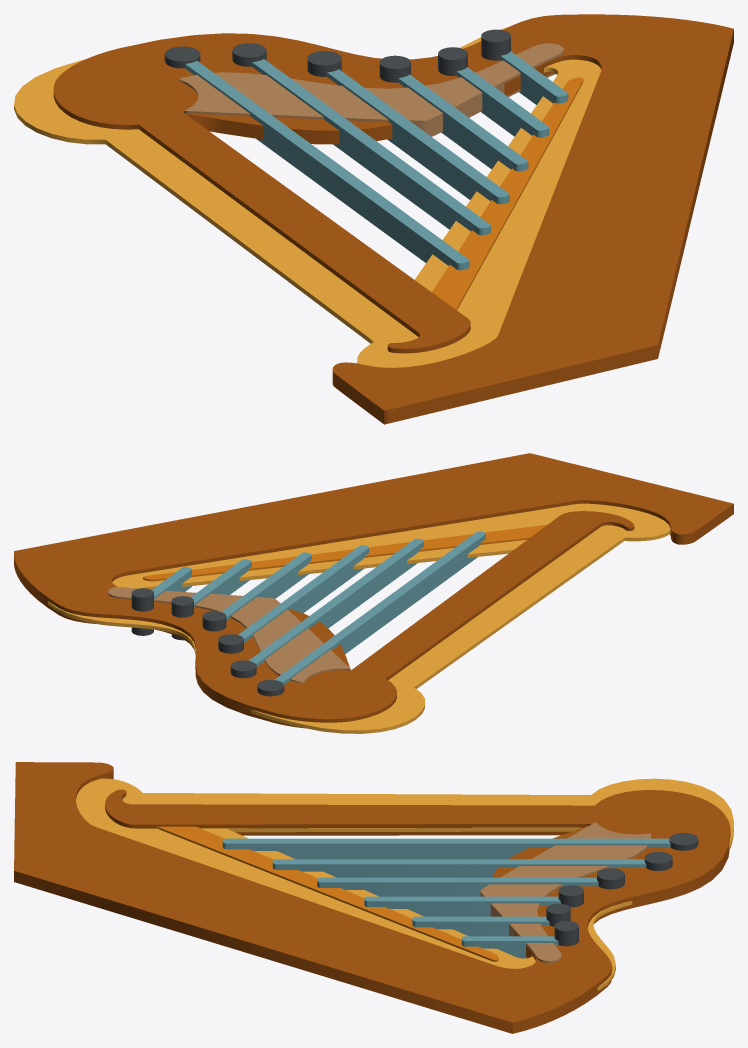
File: emoji_u1fa89.glb
3 views of the same model, one above another, from view 1: azimuth 30°, elevation 25°; view 2: azimuth 150°, elevation 25°; view 3: azimuth 270°, elevation 25° (orthographic). The views are drawn at different scales.
Visible parts, largest first — view 1: emoji_u1fa89; view 2: emoji_u1fa89; view 3: emoji_u1fa89.
Boxes of the visible parts, x1,y1,x2,y2 form: emoji_u1fa89: [14, 14, 733, 424]; emoji_u1fa89: [14, 453, 733, 733]; emoji_u1fa89: [14, 762, 733, 1033].
Bounding box in the file's own units: 0.0297 × 0.0022 × 0.0347.
